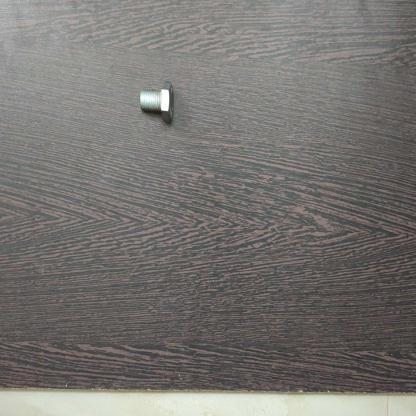Bolts: (136, 80, 178, 128)
